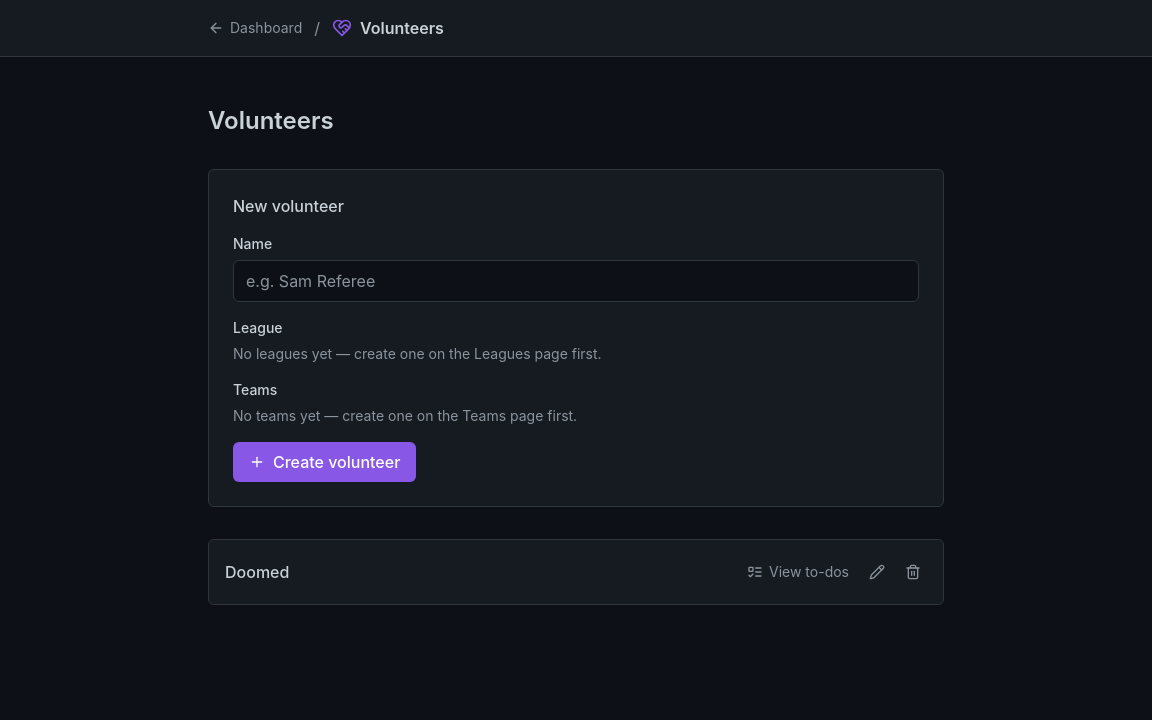
Test: VolunteersView › deletes a volunteer and shows the empty state again
What coordinates should you click on to do the following:
click the button named "Delete Doomed"
I would click on:
 (913, 572)
Its box is x1=899 y1=558 x2=927 y2=586.
(page scrolled)
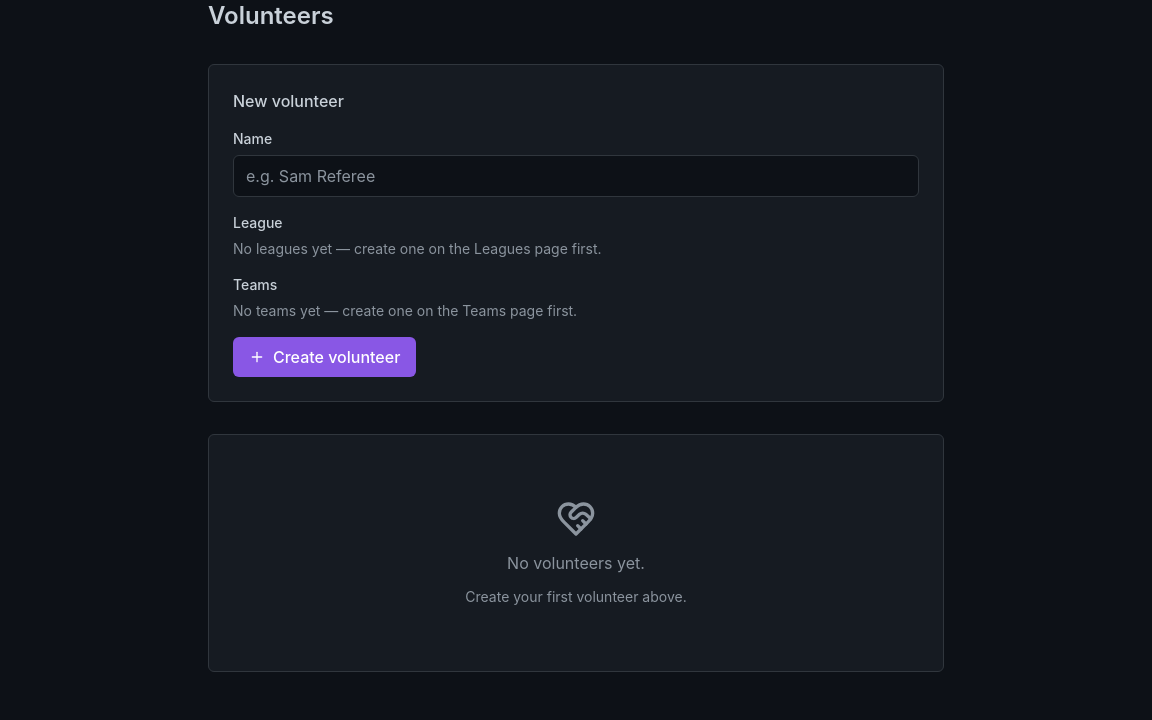
Result: the element with test id "empty-state" is shown at x1=208 y1=434 x2=944 y2=672
